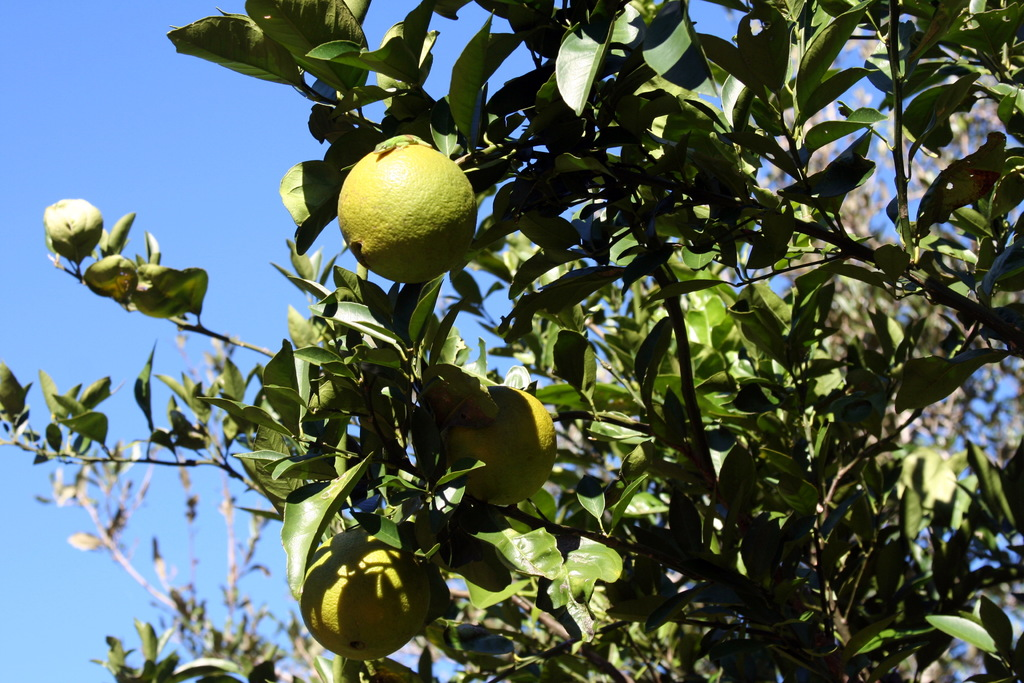Ripe: (336, 142, 479, 284), (300, 536, 433, 662), (447, 385, 563, 507)
